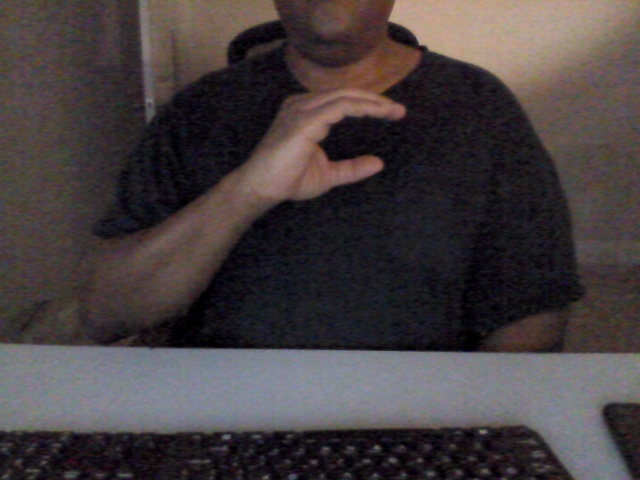police: (263, 85, 414, 222)
